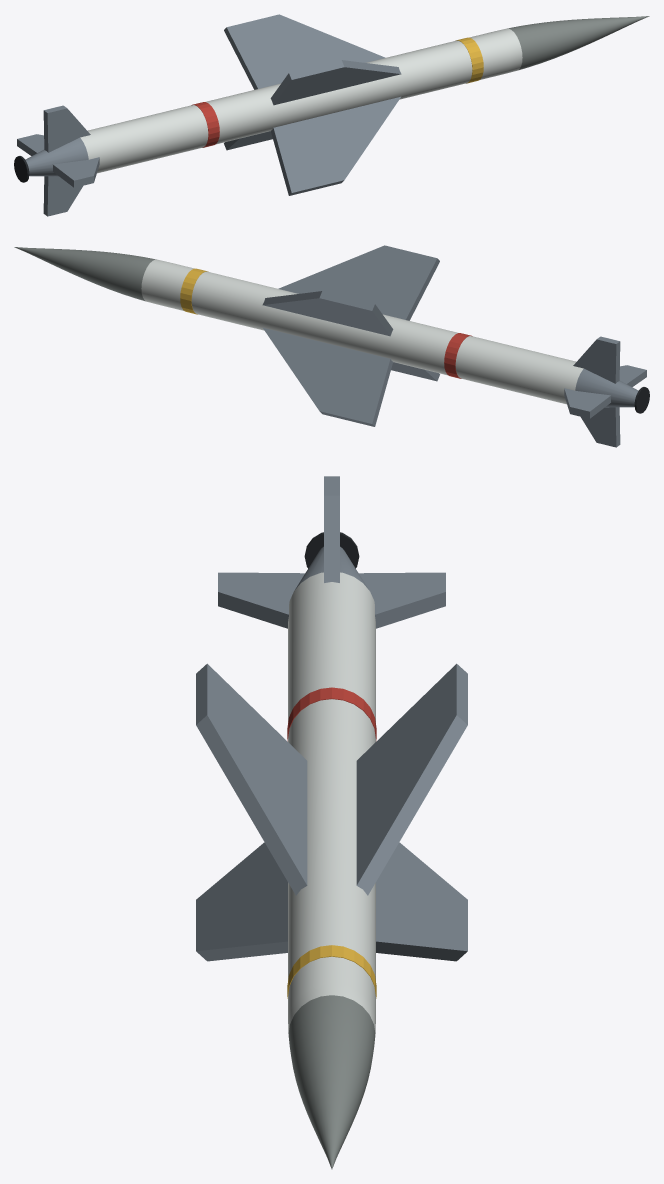
File: agm88_harm.glb
3 renders of one model, top to bottom at view 1: azimuth 30°, elevation 25°; view 2: azimuth 150°, elevation 25°; view 3: azimuth 270°, elevation 25°, orthographic. The views are drawn at different scales.
Visible parts, largest first — view 1: titanium, missile_body, seeker, marking_yellow, hazard_red, rubber; view 2: titanium, missile_body, seeker, marking_yellow, hazard_red, rubber; view 3: titanium, missile_body, seeker, hazard_red, marking_yellow.
Part boxes in pixels (box(x1,y1,x2,y2)): titanium: box(17, 14, 401, 216); missile_body: box(80, 28, 522, 173); seeker: box(507, 16, 649, 70); marking_yellow: box(455, 37, 483, 83); hazard_red: box(191, 102, 219, 147); rubber: box(14, 156, 29, 182); titanium: box(262, 245, 646, 447); missile_body: box(141, 259, 583, 404); seeker: box(14, 247, 156, 301); marking_yellow: box(180, 268, 208, 314); hazard_red: box(444, 333, 472, 378); rubber: box(634, 387, 649, 413); titanium: box(196, 476, 467, 961); missile_body: box(288, 572, 375, 1033); seeker: box(288, 995, 375, 1169); hazard_red: box(287, 687, 376, 741); marking_yellow: box(287, 945, 376, 998).
Size of the model in its own units: 10 by 1.87 by 1.87.
